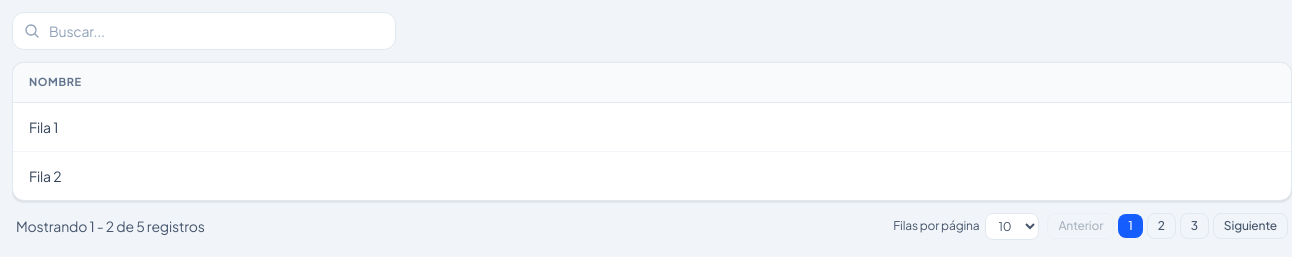
DataTable - paginación › buscar reinicia la paginación a la página 1
Click the button "Siguiente": (1250, 226) x1=1213 y1=213 x2=1288 y2=239
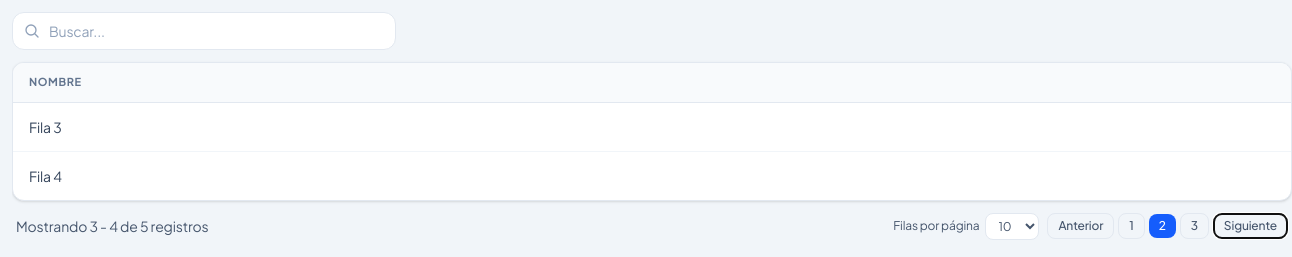
expect the text "Fila 3" is shown: met, box x1=13 y1=102 x2=1291 y2=151
In the search field with placeholder "Buscar...": (204, 31) x1=12 y1=12 x2=396 y2=50, type "Fila 1"
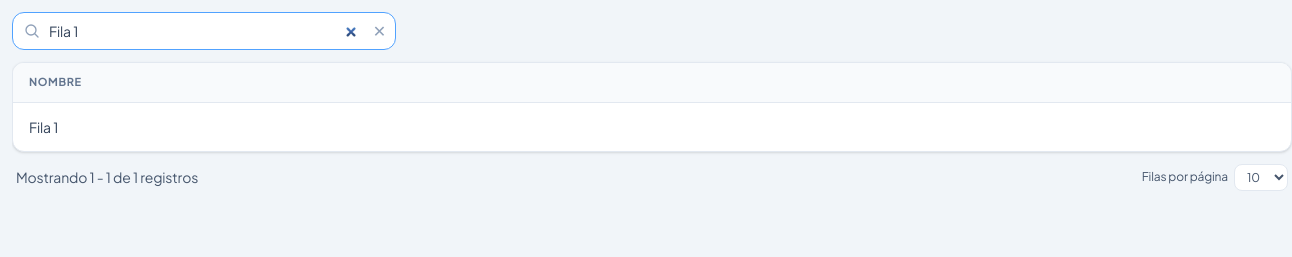
expect the text "Fila 1" is shown: met, box x1=13 y1=102 x2=1291 y2=151
expect the text "Fila 3" is gone: met
